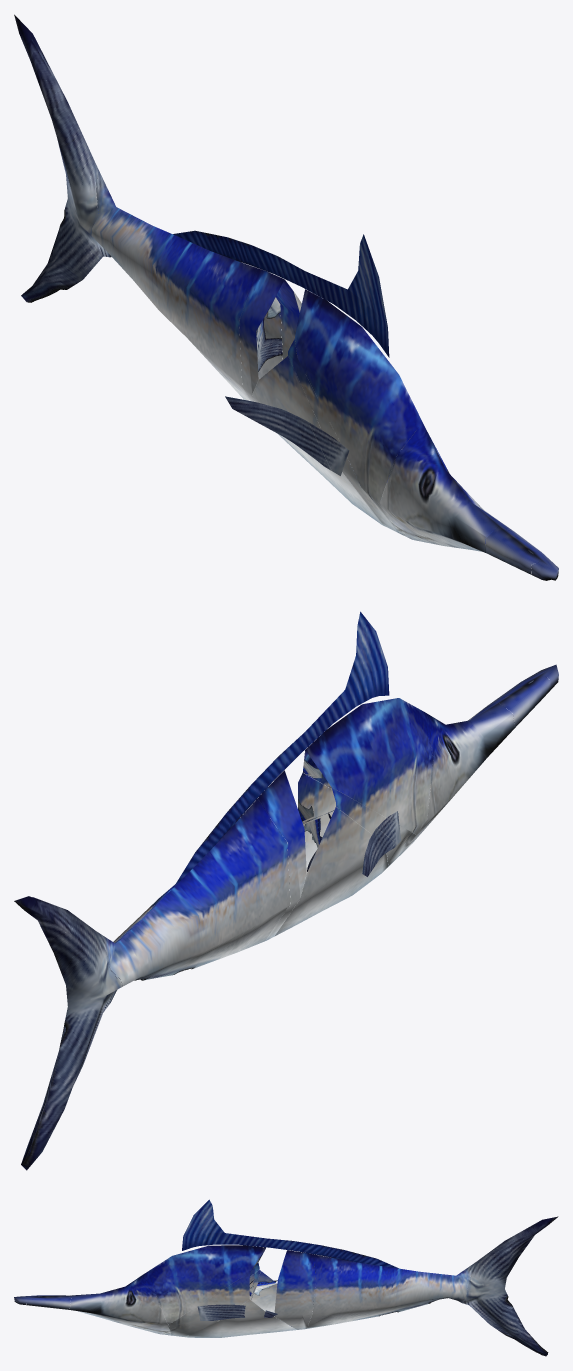
Rendered from Marlin Ragdoll.fbx.
The picture shows the model from 3 angles, top to bottom: view 1: azimuth 30°, elevation 25°; view 2: azimuth 150°, elevation 25°; view 3: azimuth 270°, elevation 25°; orthographic projection. The views are drawn at different scales.
Parts seen in each view (by area): view 1: Retopo_Marlin.001_cell.006, Retopo_Marlin.001_cell.004, Retopo_Marlin.001_cell.009, Retopo_Marlin.001_cell.008, Marlin.002, Retopo_Marlin.001_cell.005, Retopo_Marlin.001_cell.003, Retopo_Marlin.001_cell.012, Retopo_Marlin.001_cell.007, Retopo_Marlin.001_cell, Retopo_Marlin.001_cell.010; view 2: Retopo_Marlin.001_cell.006, Retopo_Marlin.001_cell.004, Retopo_Marlin.001_cell.009, Retopo_Marlin.001_cell.003, Marlin.002, Retopo_Marlin.001_cell.008, Retopo_Marlin.001_cell.005, Retopo_Marlin.001_cell, Retopo_Marlin.001_cell.007, Retopo_Marlin.001_cell.012; view 3: Retopo_Marlin.001_cell.006, Retopo_Marlin.001_cell.004, Retopo_Marlin.001_cell.009, Retopo_Marlin.001_cell.008, Marlin.002, Retopo_Marlin.001_cell.005, Retopo_Marlin.001_cell.003, Retopo_Marlin.001_cell, Retopo_Marlin.001_cell.011, Retopo_Marlin.001_cell.007.
Part boxes in pixels (x1=…): Retopo_Marlin.001_cell.006: x1=92, y1=168, x2=282, y2=401; Retopo_Marlin.001_cell.004: x1=294, y1=289, x2=422, y2=513; Retopo_Marlin.001_cell.009: x1=14, y1=14, x2=109, y2=302; Retopo_Marlin.001_cell.008: x1=380, y1=422, x2=512, y2=552; Marlin.002: x1=173, y1=230, x2=389, y2=357; Retopo_Marlin.001_cell.005: x1=239, y1=268, x2=317, y2=401; Retopo_Marlin.001_cell.003: x1=252, y1=356, x2=386, y2=526; Retopo_Marlin.001_cell.012: x1=225, y1=396, x2=331, y2=470; Retopo_Marlin.001_cell.007: x1=485, y1=526, x2=552, y2=574; Retopo_Marlin.001_cell: x1=288, y1=339, x2=399, y2=533; Retopo_Marlin.001_cell.010: x1=308, y1=422, x2=344, y2=475; Retopo_Marlin.001_cell.006: x1=98, y1=799, x2=290, y2=1002; Retopo_Marlin.001_cell.004: x1=302, y1=698, x2=433, y2=834; Retopo_Marlin.001_cell.009: x1=14, y1=896, x2=122, y2=1170; Retopo_Marlin.001_cell.003: x1=274, y1=807, x2=388, y2=936; Marlin.002: x1=173, y1=611, x2=389, y2=887; Retopo_Marlin.001_cell.008: x1=385, y1=703, x2=514, y2=855; Retopo_Marlin.001_cell.005: x1=257, y1=770, x2=306, y2=940; Retopo_Marlin.001_cell: x1=298, y1=773, x2=415, y2=867; Retopo_Marlin.001_cell.007: x1=487, y1=674, x2=550, y2=727; Retopo_Marlin.001_cell.012: x1=362, y1=828, x2=397, y2=876; Retopo_Marlin.001_cell.006: x1=307, y1=1254, x2=474, y2=1328; Retopo_Marlin.001_cell.004: x1=148, y1=1245, x2=265, y2=1324; Retopo_Marlin.001_cell.009: x1=462, y1=1216, x2=558, y2=1356; Retopo_Marlin.001_cell.008: x1=69, y1=1271, x2=171, y2=1335; Marlin.002: x1=182, y1=1199, x2=398, y2=1268; Retopo_Marlin.001_cell.005: x1=274, y1=1250, x2=315, y2=1329; Retopo_Marlin.001_cell.003: x1=185, y1=1270, x2=296, y2=1337; Retopo_Marlin.001_cell: x1=168, y1=1263, x2=259, y2=1336; Retopo_Marlin.001_cell.011: x1=197, y1=1304, x2=245, y2=1320; Retopo_Marlin.001_cell.007: x1=26, y1=1295, x2=71, y2=1309.
Size of the model in its own units: 159 by 345 by 1083.
